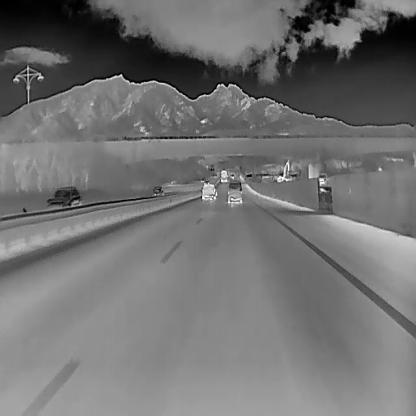car: (46, 185, 82, 209), (226, 180, 243, 204), (201, 182, 215, 201), (151, 184, 164, 198), (220, 169, 227, 184), (230, 173, 235, 180), (205, 178, 209, 184), (200, 176, 204, 181)
